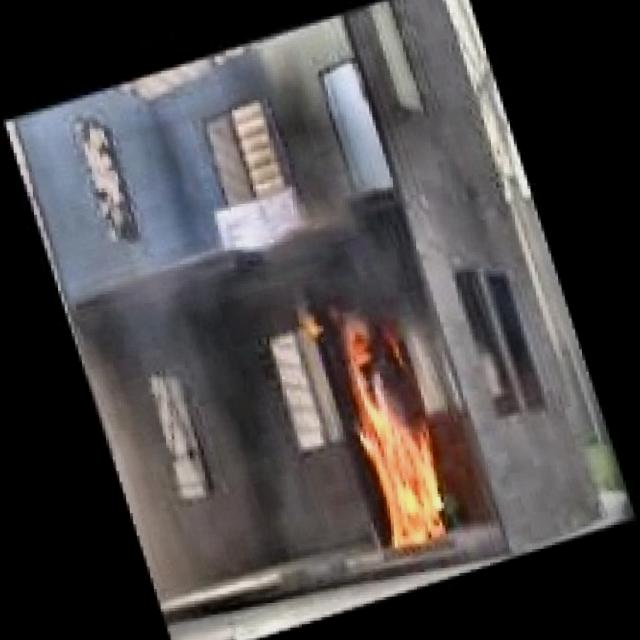fire: (300, 302, 490, 571)
